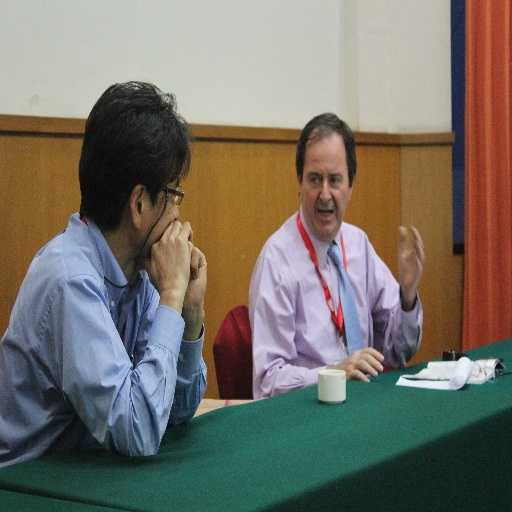hand: (134, 218, 193, 301), (396, 223, 424, 304), (181, 237, 208, 316), (333, 345, 384, 382)
